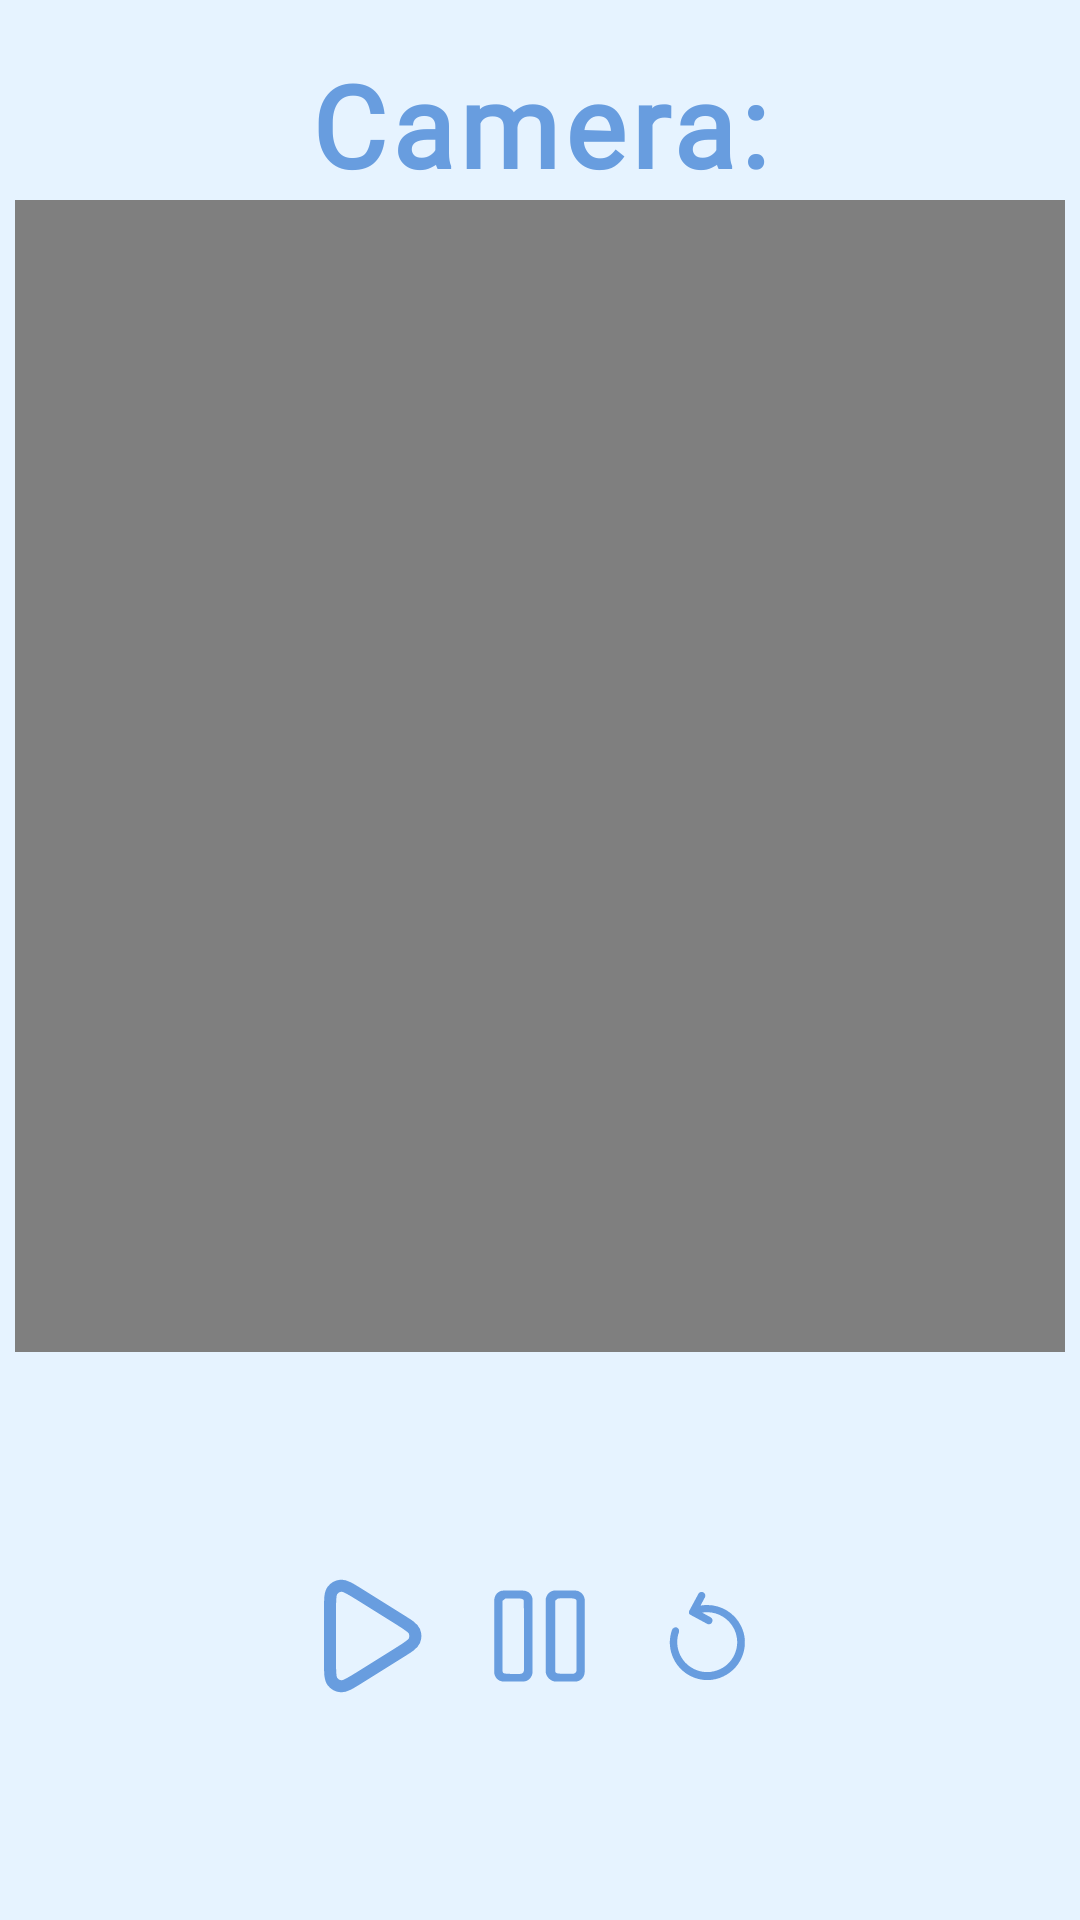

Icon click points for this 1080px x 1920px phone screenshot, format point (x, y):
Pause: point (539, 1636)
Play: point (373, 1636)
Restart: point (707, 1636)
